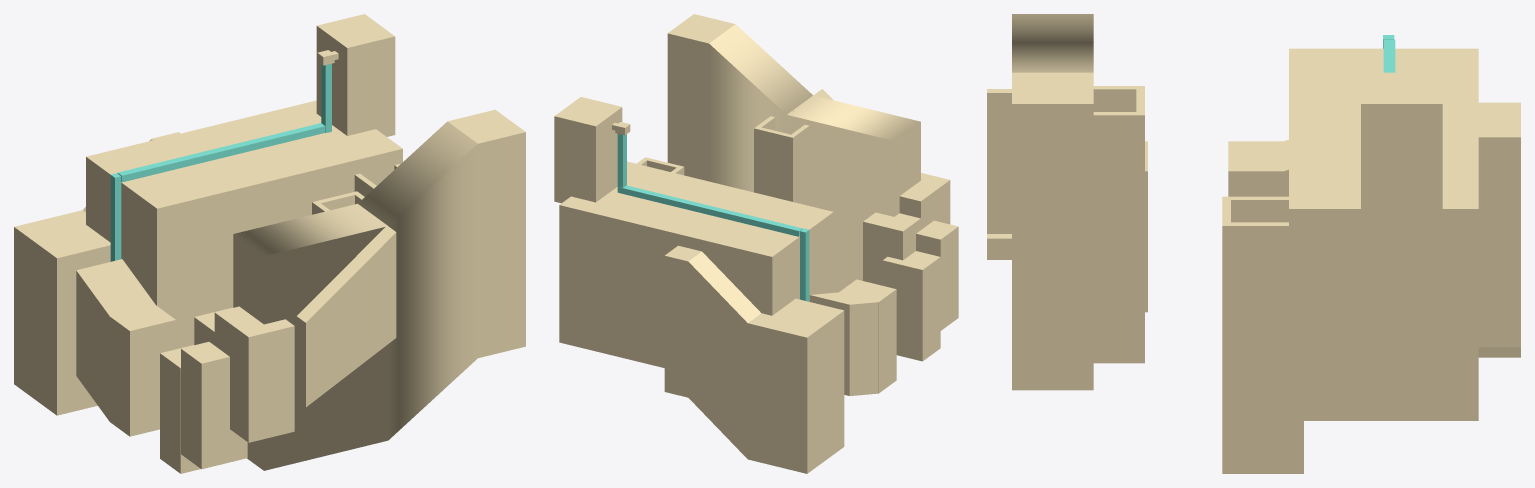
File: test_aruana.fbx
The picture shows the model from 3 angles, left to right: view 1: azimuth 30°, elevation 25°; view 2: azimuth 150°, elevation 25°; view 3: azimuth 270°, elevation 25°; orthographic projection. The views are drawn at different scales.
Visible parts, largest first — view 1: Box0017; view 2: Box0017; view 3: Box0017.
Boxes of the visible parts, left/top/right/bottom form: Box0017: left=14, top=14, right=525, bottom=473; Box0017: left=554, top=14, right=958, bottom=473; Box0017: left=987, top=14, right=1520, bottom=473.
Size of the model in its own units: 155 by 145 by 168.
